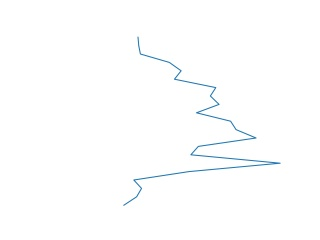floodSwamp: (119, 36, 283, 208)
